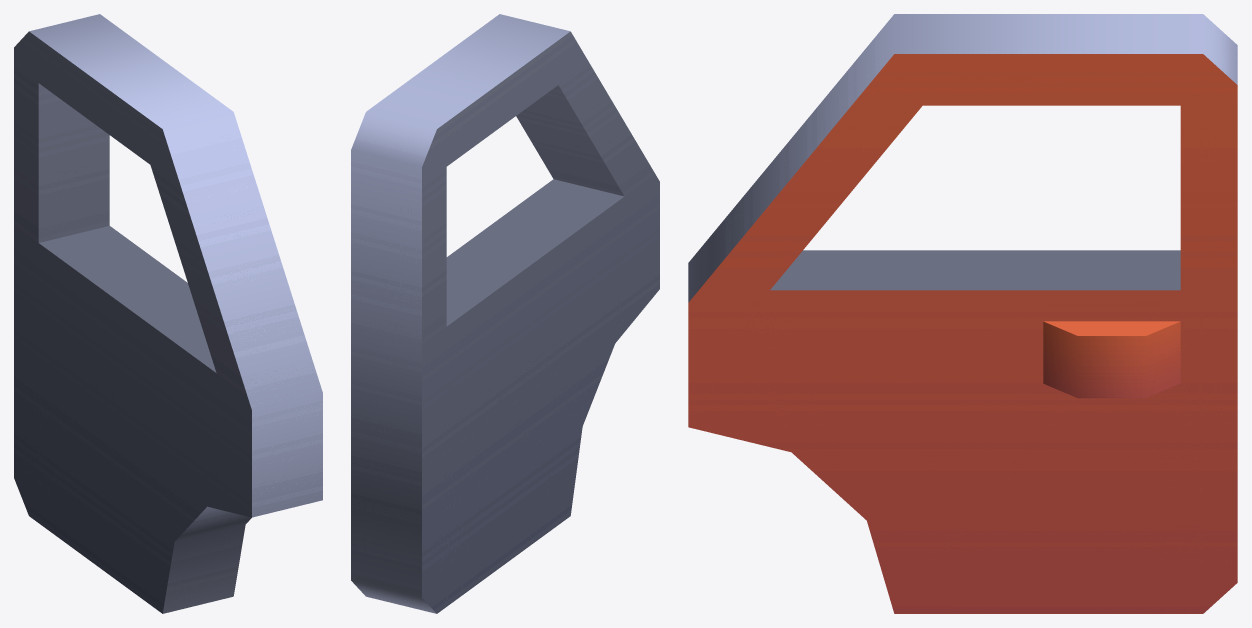
The model's file is debris-door.glb.
3 renders of one model, left to right at view 1: azimuth 30°, elevation 25°; view 2: azimuth 150°, elevation 25°; view 3: azimuth 270°, elevation 25°, orthographic. The views are drawn at different scales.
Parts seen in each view (by area): view 1: debris-door; view 2: debris-door; view 3: debris-door.
Part boxes in pixels (left/top/right/bottom): debris-door: left=14, top=14, right=322, bottom=613; debris-door: left=351, top=14, right=659, bottom=613; debris-door: left=688, top=14, right=1237, bottom=613.
Bounding box in the file's own units: 0.188 × 0.9 × 0.8.
1 material, 1 textured.
